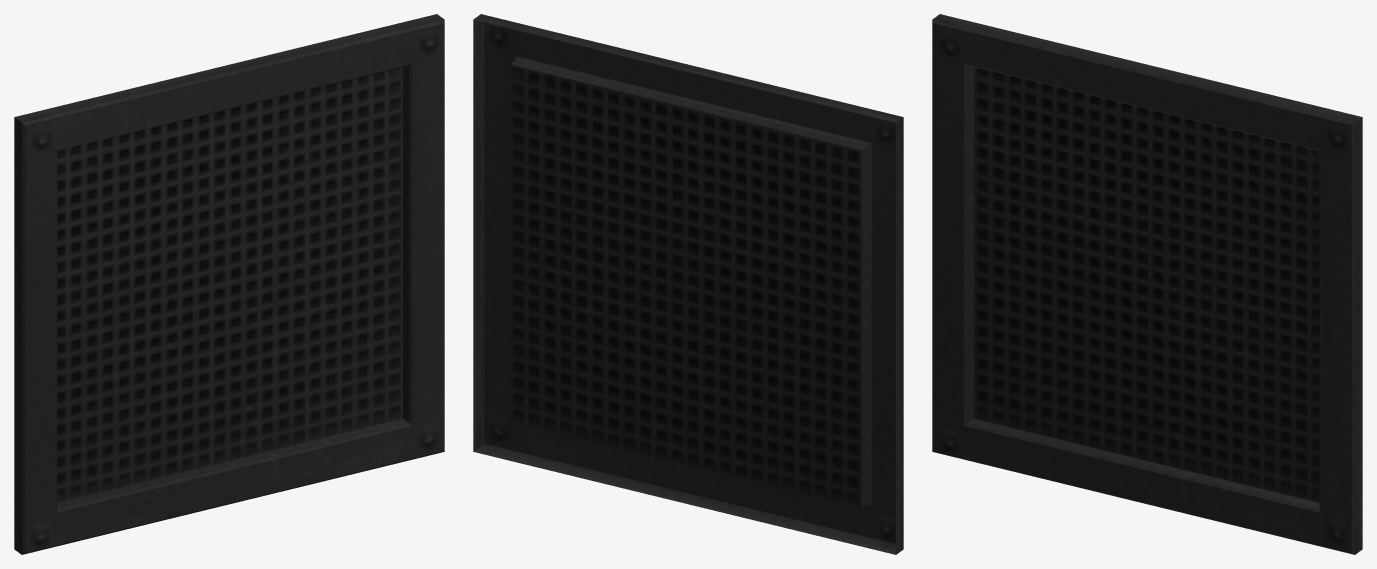
File: vent_3.obj
The picture shows the model from 3 angles, left to right: view 1: azimuth 30°, elevation 25°; view 2: azimuth 150°, elevation 25°; view 3: azimuth 330°, elevation 25°; orthographic projection.
Parts seen in each view (by area): view 1: vent_3; view 2: vent_3; view 3: vent_3.
Boxes of the visible parts, left/top/right/bottom form: vent_3: left=14, top=14, right=444, bottom=554; vent_3: left=473, top=14, right=903, bottom=554; vent_3: left=932, top=14, right=1362, bottom=554.
Bounding box in the file's own units: 0.8192 × 0.8 × 0.03.
